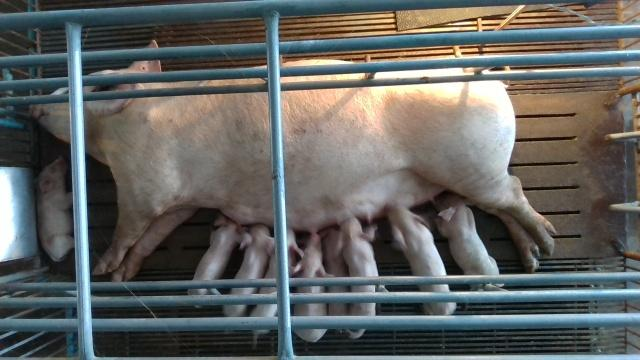piglet: (389, 206, 457, 315), (431, 192, 504, 290), (250, 228, 303, 349), (334, 215, 378, 337), (187, 213, 241, 308), (223, 224, 275, 317), (291, 233, 335, 342), (36, 156, 75, 261), (320, 227, 348, 332)
sow-sleep-lactate: (27, 40, 556, 279)
